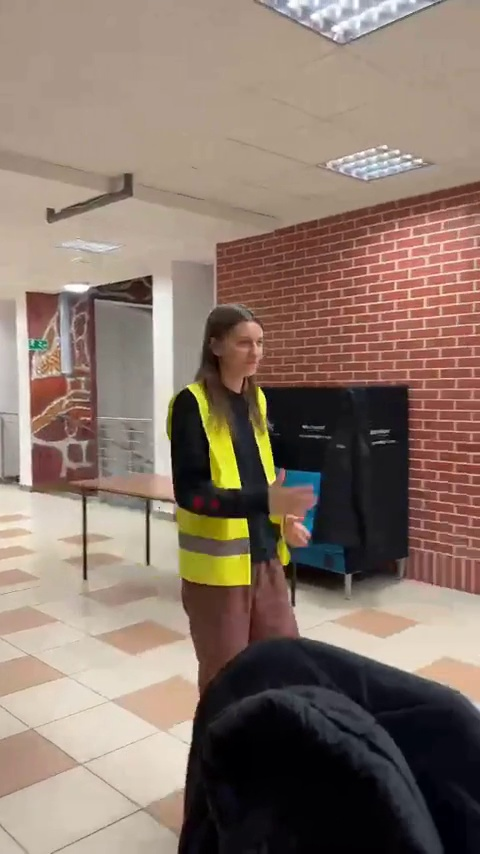vest: (169, 293, 307, 640)
